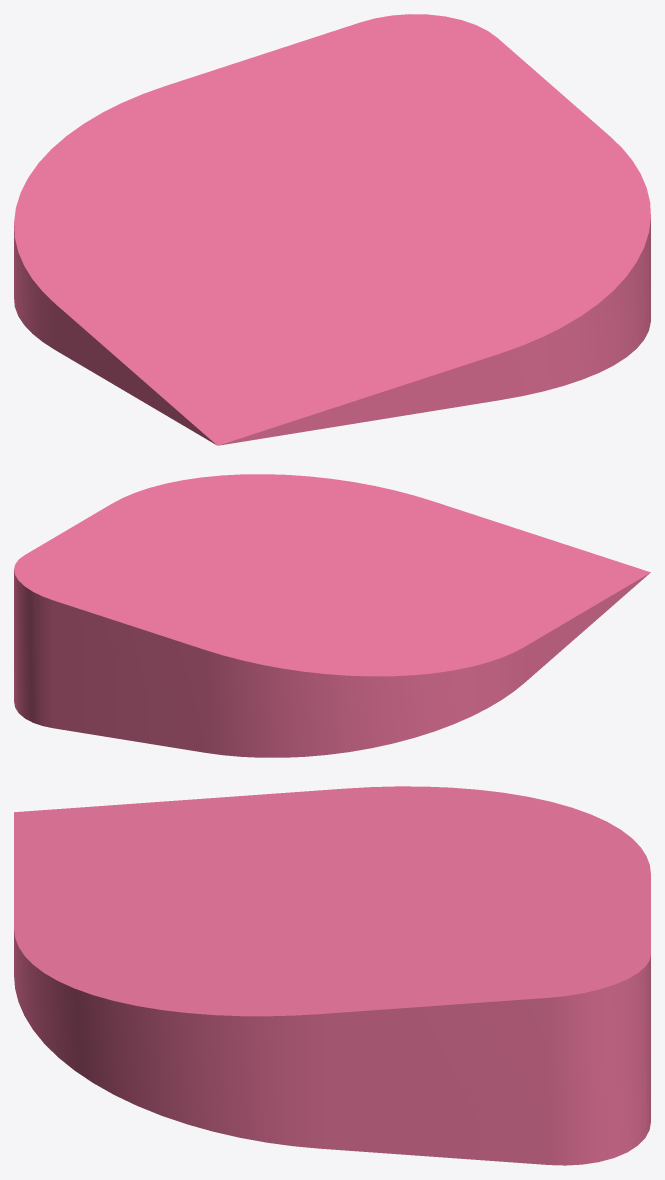
The model's file is Calorieshape.gltf.
The picture shows the model from 3 angles, top to bottom: view 1: azimuth 30°, elevation 25°; view 2: azimuth 150°, elevation 25°; view 3: azimuth 270°, elevation 25°; orthographic projection. The views are drawn at different scales.
Visible parts, largest first — view 1: Cube; view 2: Cube; view 3: Cube.
Boxes of the visible parts, x1,y1,x2,y2 form: Cube: [14, 14, 650, 445]; Cube: [14, 474, 650, 757]; Cube: [14, 786, 650, 1165].
Size of the model in its own units: 50 by 15 by 50.
